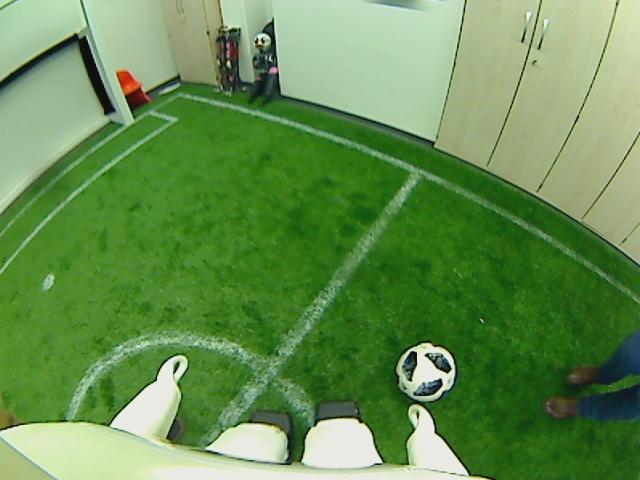ball: (391, 341, 460, 402)
